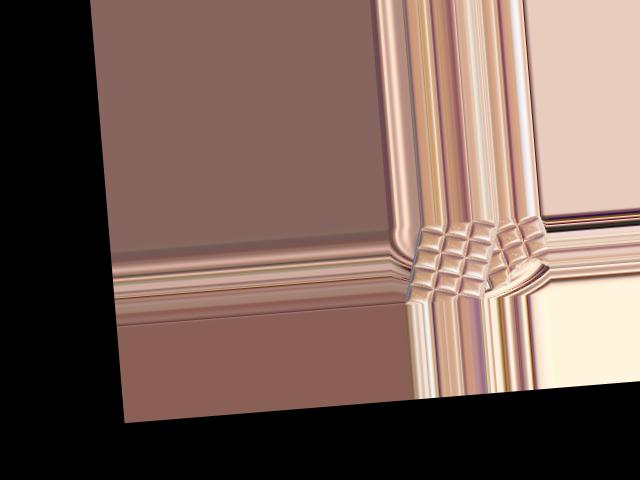chocolate: (397, 217, 506, 303)
